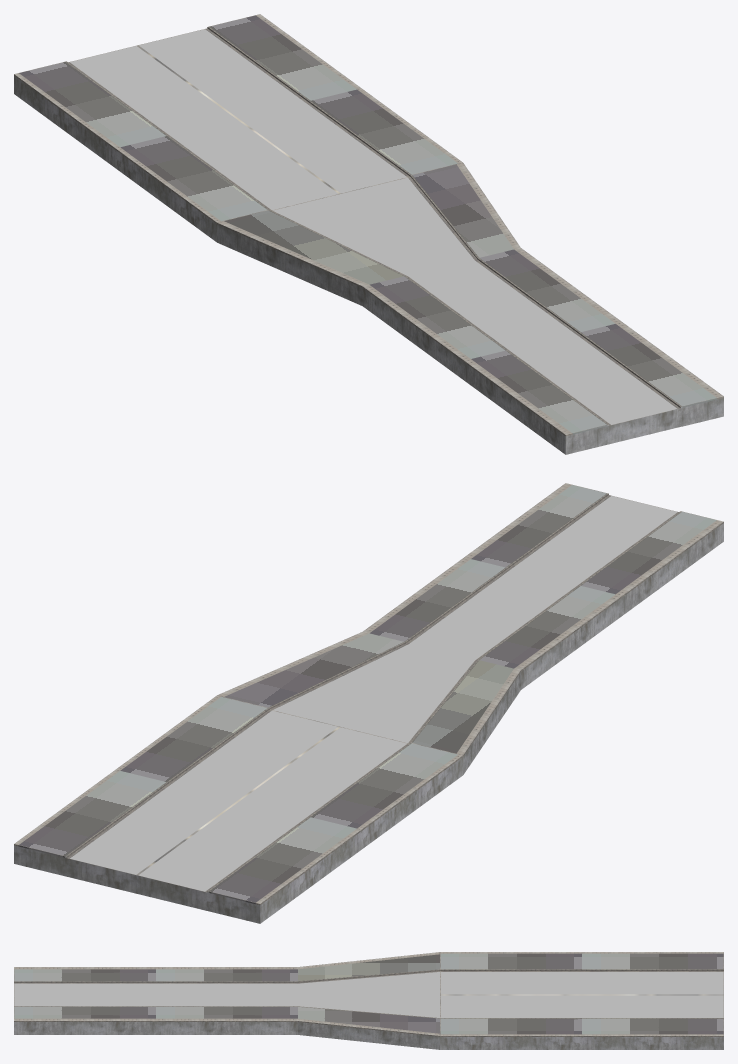
Rendered from Road_03a_st.fbx.
The picture shows the model from 3 angles, top to bottom: view 1: azimuth 30°, elevation 25°; view 2: azimuth 150°, elevation 25°; view 3: azimuth 270°, elevation 25°; orthographic projection. The views are drawn at different scales.
Visible parts, largest first — view 1: Road_03a_st; view 2: Road_03a_st; view 3: Road_03a_st.
Part boxes in pixels (bbox=[...]): Road_03a_st: bbox=[14, 14, 723, 454]; Road_03a_st: bbox=[14, 483, 723, 923]; Road_03a_st: bbox=[14, 952, 723, 1049].
Size of the model in its own units: 28 by 2.18 by 100.
